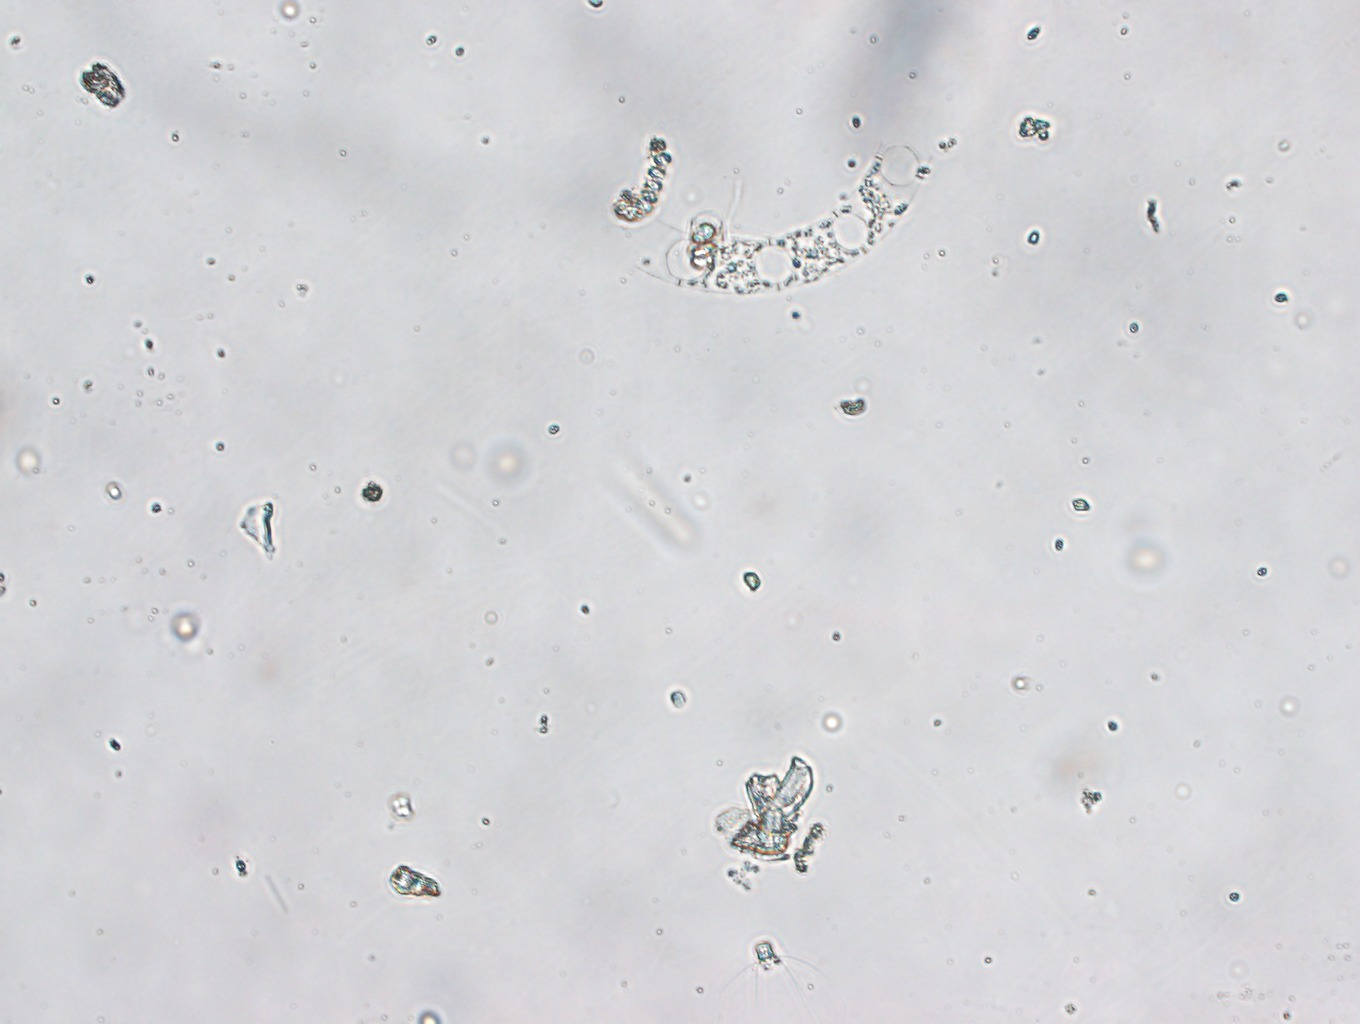eucampia: (626, 130, 964, 307)
